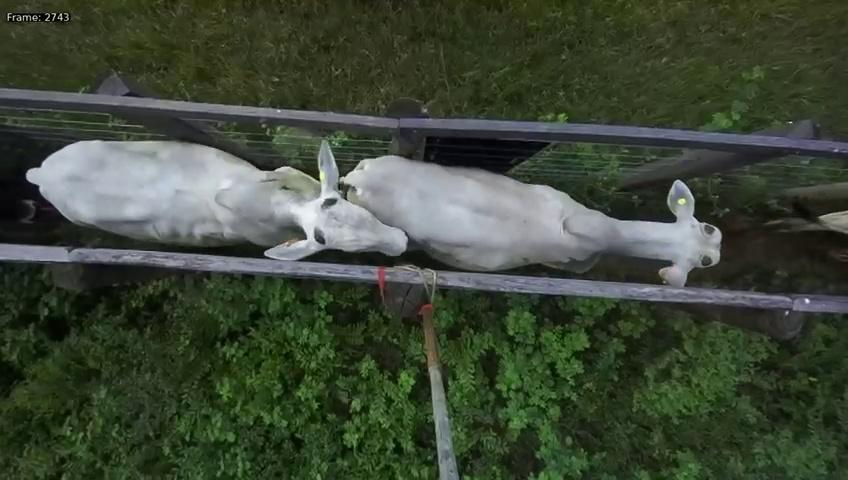cattle: (341, 148, 724, 295), (19, 130, 409, 265)
